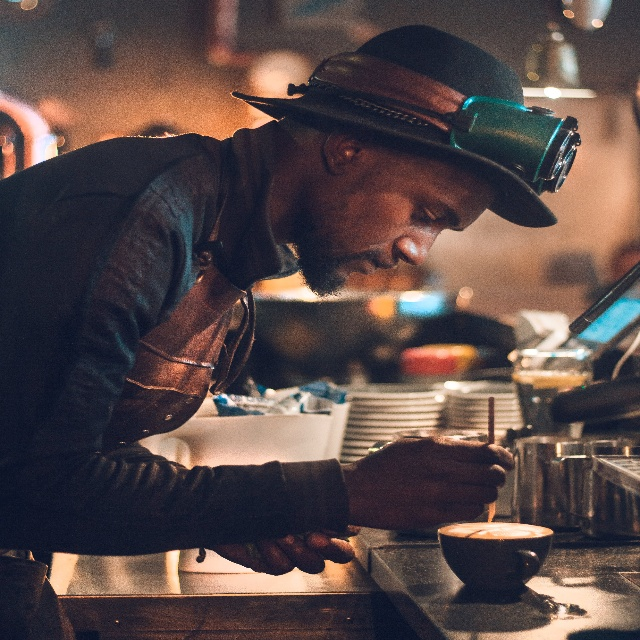Sin_guantes: (348, 435, 515, 534), (205, 522, 363, 582)
